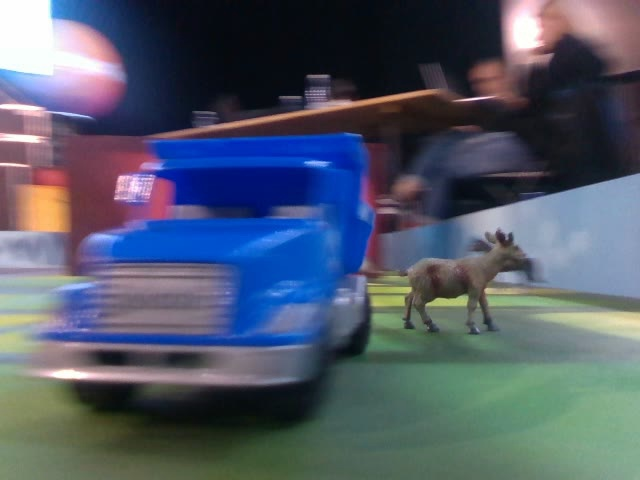toy: (397, 225, 531, 340)
